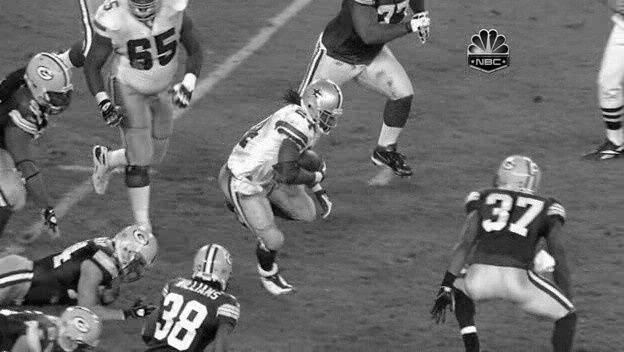person: (304, 84, 340, 133), (303, 84, 339, 133), (305, 84, 341, 133), (304, 83, 340, 132), (304, 85, 340, 134)
target_negative: (268, 285, 604, 312), (426, 230, 474, 351), (569, 312, 608, 345), (71, 317, 122, 326), (342, 342, 422, 343), (614, 347, 616, 352)
